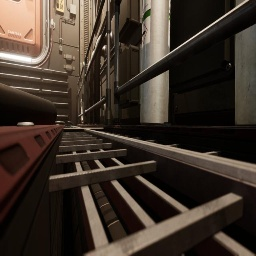0: (140, 0, 170, 125), (235, 0, 256, 126)
EmergencyPhone ,: (54, 0, 64, 14)
